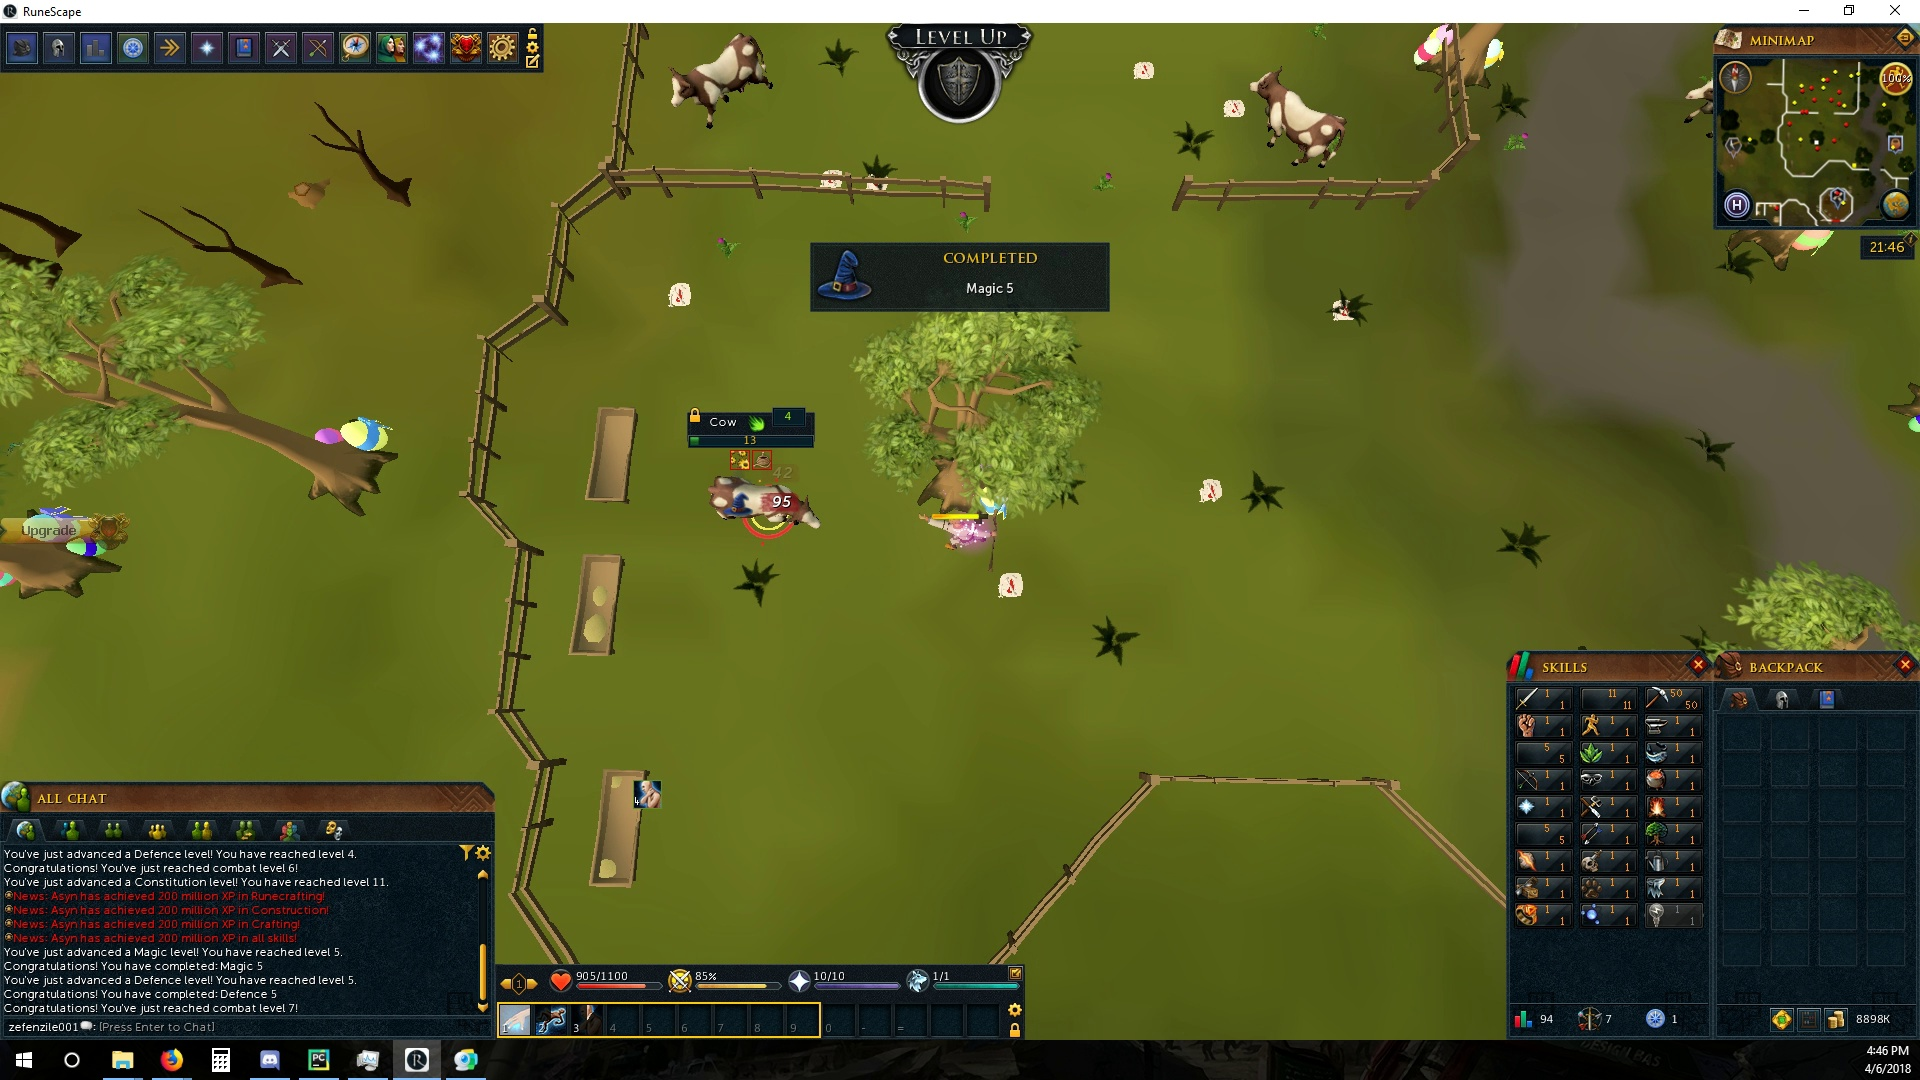cow: (1240, 66, 1352, 169), (669, 33, 781, 132), (698, 473, 827, 541)
cow_drop: (996, 564, 1023, 603), (666, 276, 694, 310), (1196, 473, 1224, 506), (1327, 297, 1356, 324), (1131, 59, 1158, 84), (819, 166, 847, 190), (1222, 96, 1249, 119)
